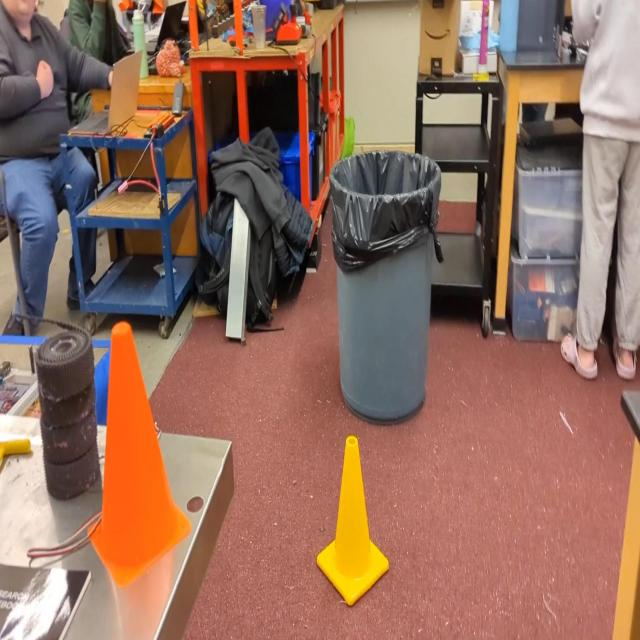frc_cone: (316, 434, 390, 607)
